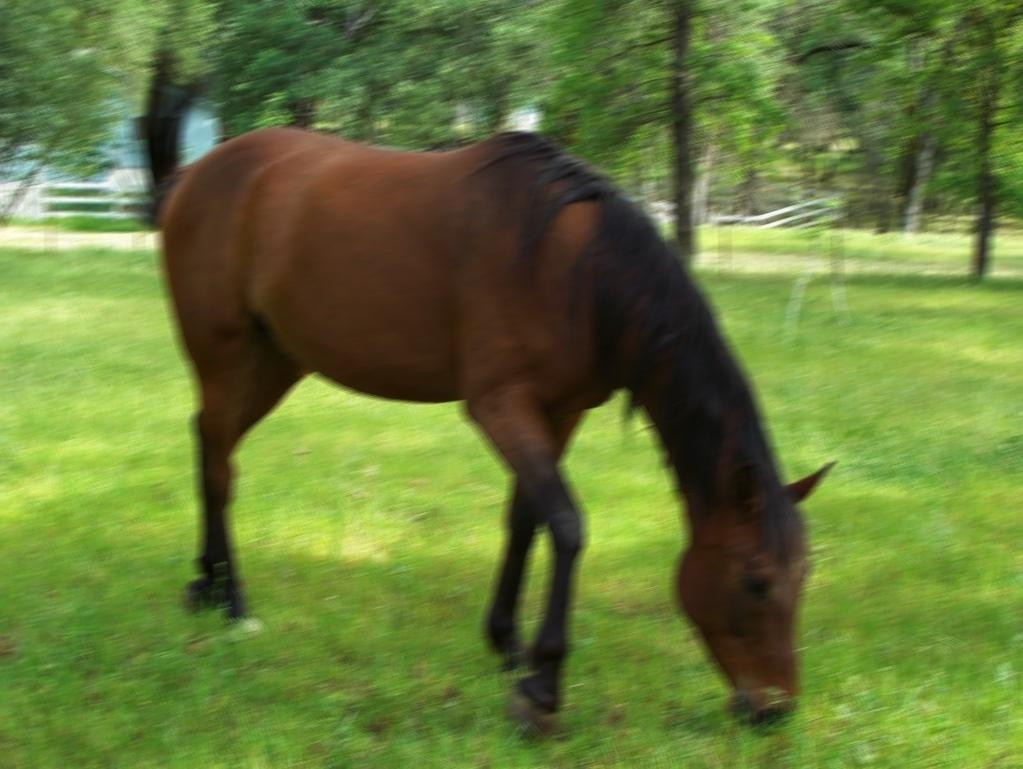horse: (114, 23, 840, 742)
